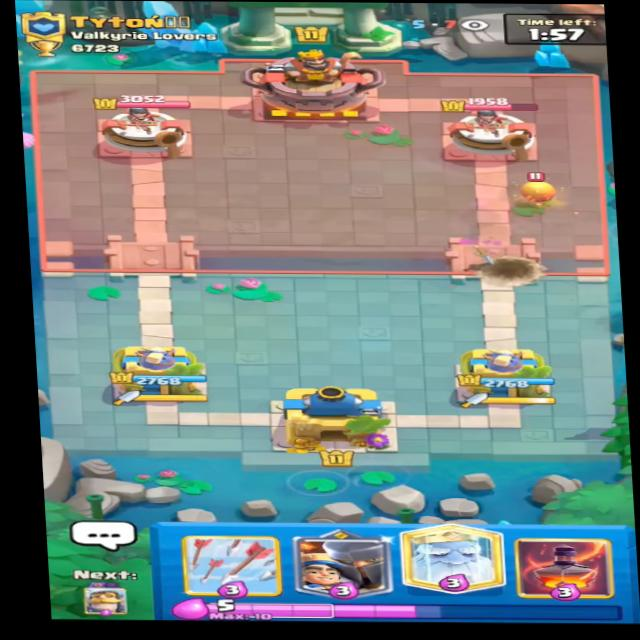phoenix-egg: (509, 167, 562, 208)
